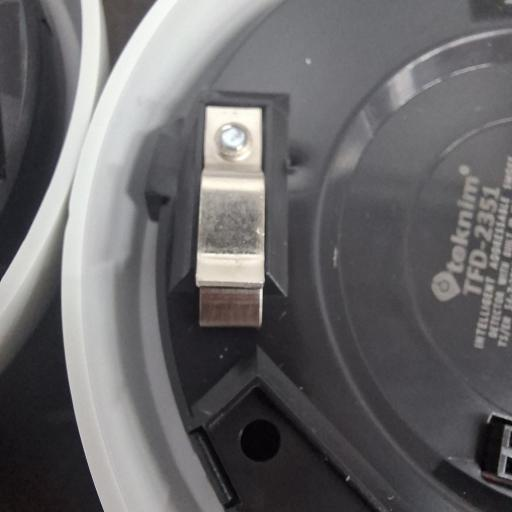yayli: (192, 101, 270, 332)
